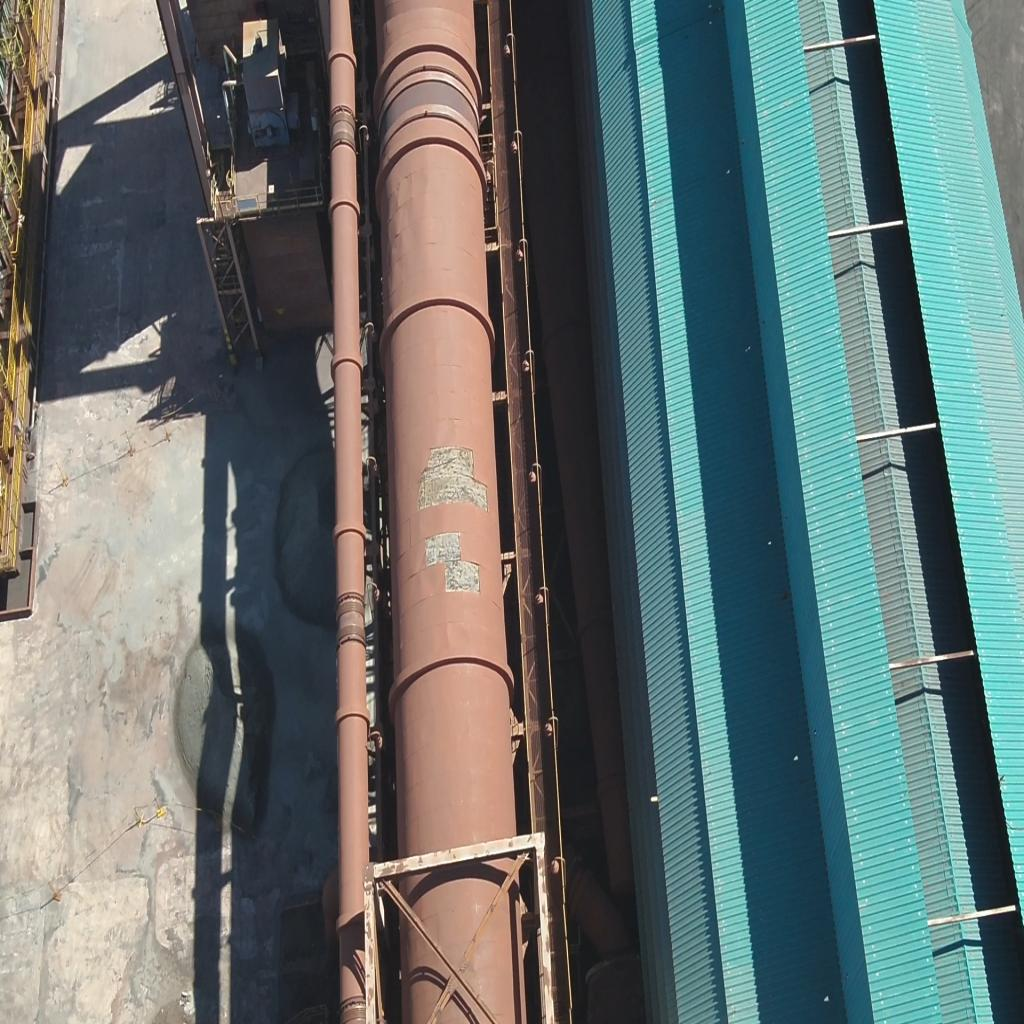Failures: (419, 450, 488, 510), (445, 559, 481, 592), (424, 535, 460, 564)
